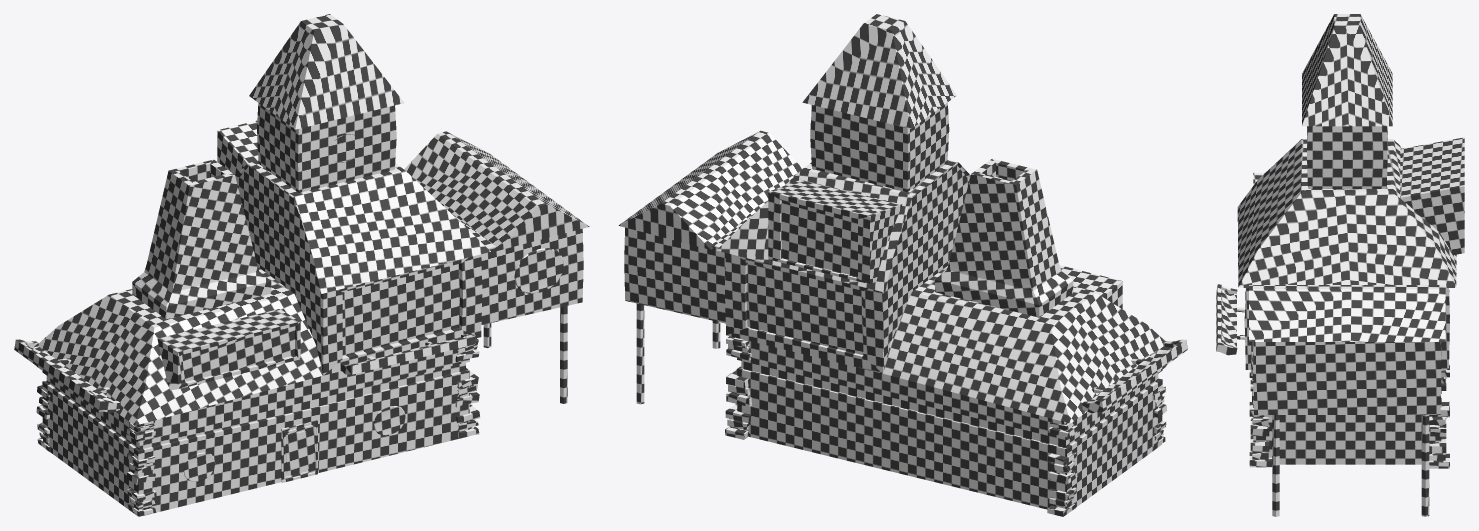
Rendered from House_5.fbx.
3 renders of one model, left to right at view 1: azimuth 30°, elevation 25°; view 2: azimuth 150°, elevation 25°; view 3: azimuth 270°, elevation 25°, orthographic.
Visible parts, largest first — view 1: House_5; view 2: House_5; view 3: House_5.
Boxes of the visible parts, x1,y1,x2,y2 form: House_5: (14,14,589,516); House_5: (618,14,1187,516); House_5: (1216,14,1464,516).
Bounding box in the file's own units: 1909 × 1528 × 868.
Materials: 1 (1 with a texture image).
